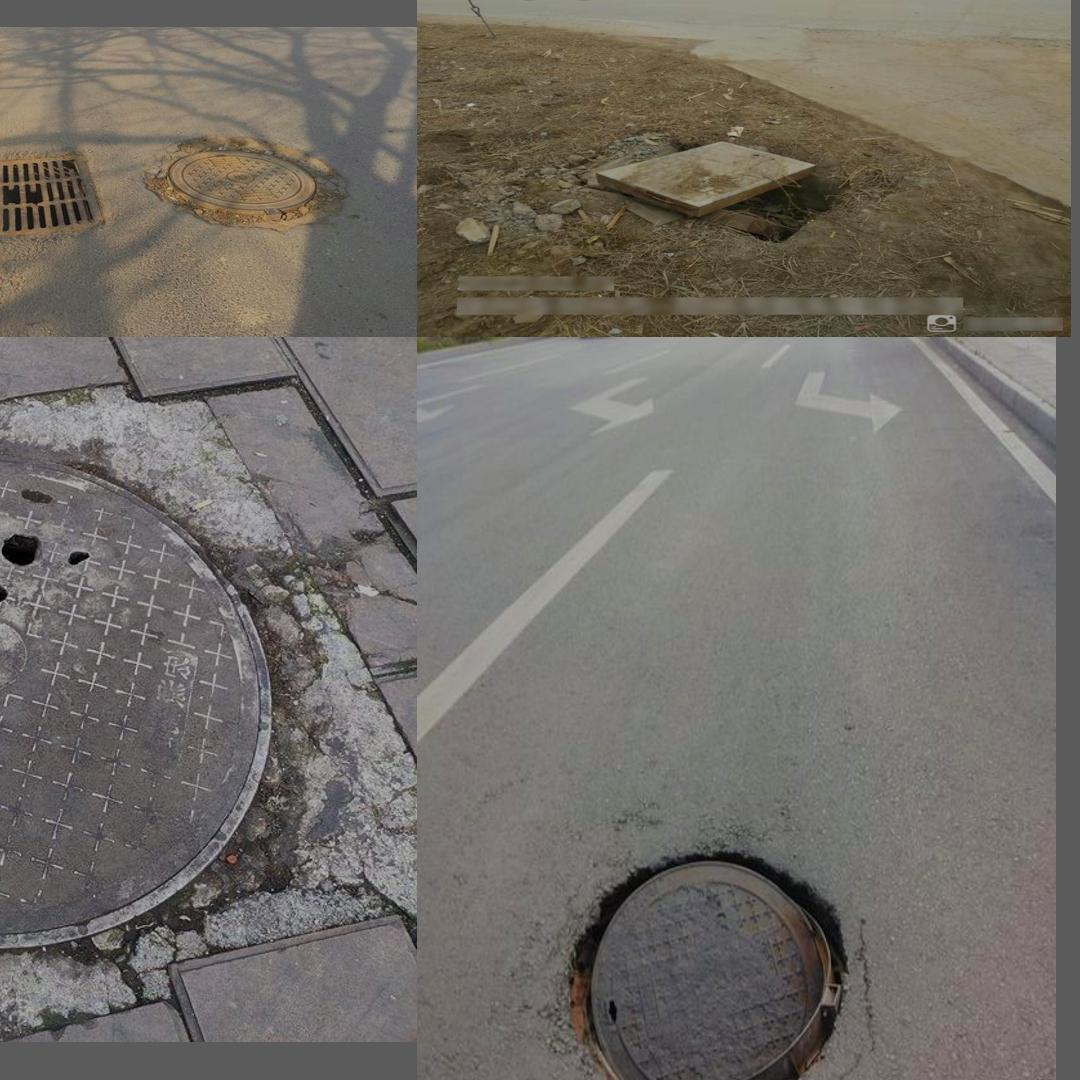circle: (0, 378, 393, 1025), (535, 828, 893, 1080), (560, 129, 865, 252), (136, 127, 348, 235)
